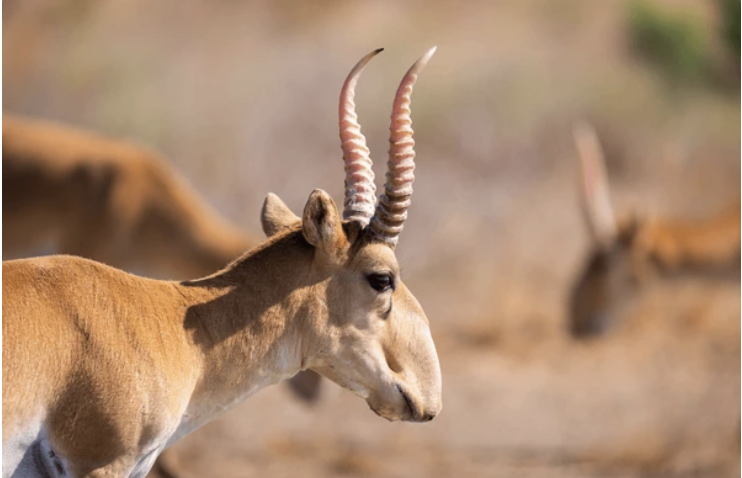saiga: (2, 44, 443, 478)
